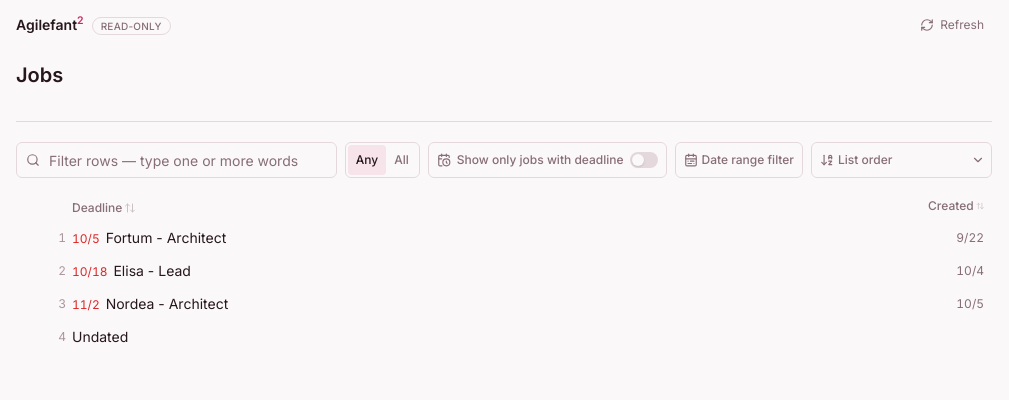
Test: on the page › keeps the spans out of the way until asked for
The image size is (1009, 400).
expect the text "Fortum - Architect" is shown: met, box [106,228,226,248]
Step 1. Click the button "Date range filter" → click(739, 160), box [674,142,803,178]
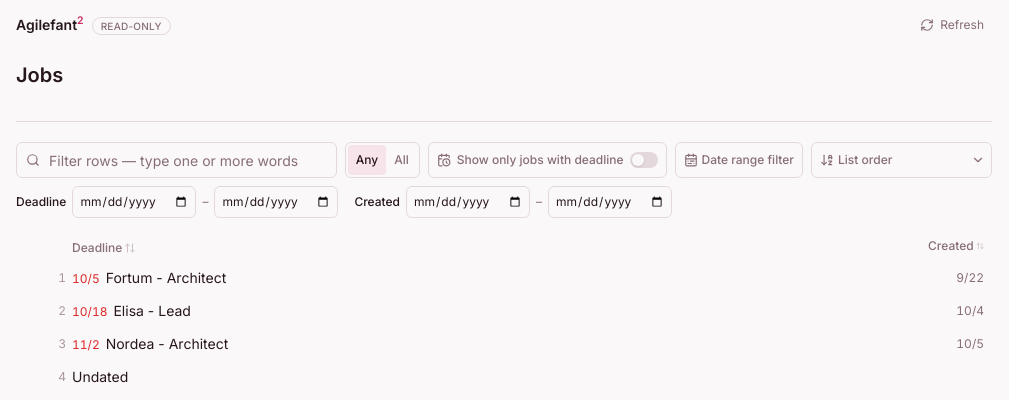
expect the date field named "Deadline from" is shown: met, box [72,186,196,218]
expect the date field named "Deadline to" is shown: met, box [214,186,338,218]
expect the date field named "Created from" is shown: met, box [406,186,530,218]
